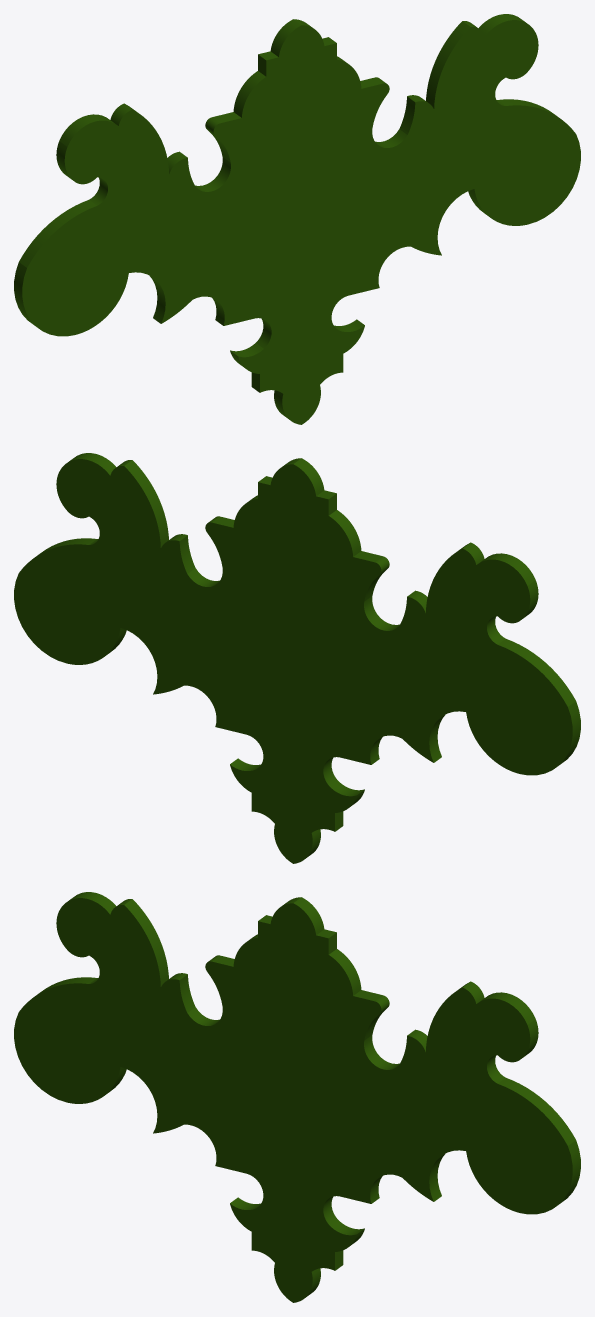
Rendered from original-10.obj.
3 views of the same model, one above another, from view 1: azimuth 30°, elevation 25°; view 2: azimuth 150°, elevation 25°; view 3: azimuth 330°, elevation 25° (orthographic).
Parts seen in each view (by area): view 1: handle_plate1/handle_plate/mesh14/mesh14-geometry#mesh14-geometr; view 2: handle_plate1/handle_plate/mesh14/mesh14-geometry#mesh14-geometr; view 3: handle_plate1/handle_plate/mesh14/mesh14-geometry#mesh14-geometr.
Part boxes in pixels (x1,y1,x2,y2): handle_plate1/handle_plate/mesh14/mesh14-geometry#mesh14-geometr: [14, 14, 580, 424]; handle_plate1/handle_plate/mesh14/mesh14-geometry#mesh14-geometr: [14, 453, 580, 863]; handle_plate1/handle_plate/mesh14/mesh14-geometry#mesh14-geometr: [14, 892, 580, 1302].
Bounding box in the file's own units: 0.0927 × 0.0634 × 0.00238.
